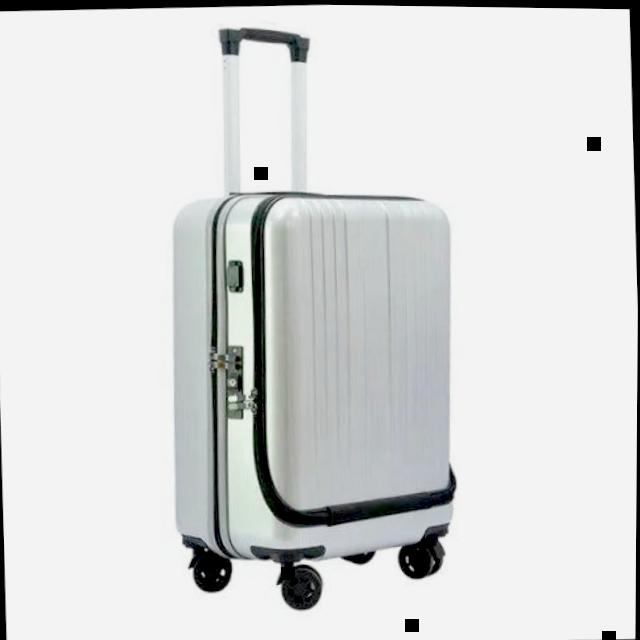luggage: (161, 173, 468, 569)
